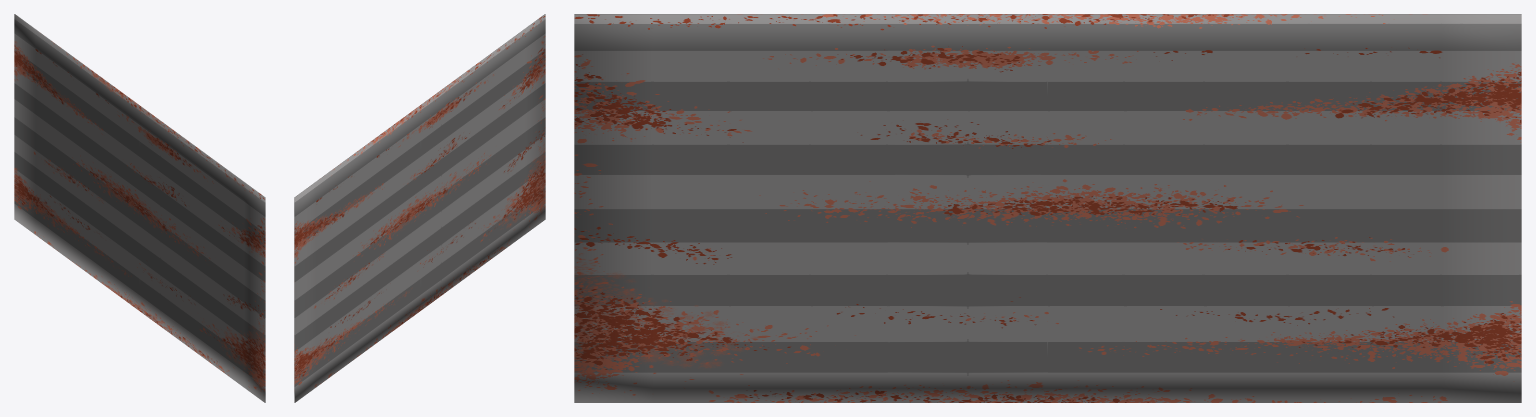
The model's file is yero.fbx.
3 views of the same model, side by side, from view 1: azimuth 30°, elevation 25°; view 2: azimuth 150°, elevation 25°; view 3: azimuth 270°, elevation 25° (orthographic). The views are drawn at different scales.
Parts seen in each view (by area): view 1: Plane; view 2: Plane; view 3: Plane.
Boxes of the visible parts, bbox=[...] form: Plane: bbox=[14, 14, 265, 402]; Plane: bbox=[294, 14, 545, 402]; Plane: bbox=[574, 14, 1521, 402].
Size of the model in its own units: 1 by 349 by 772.
Materials: 1 (1 with a texture image).
